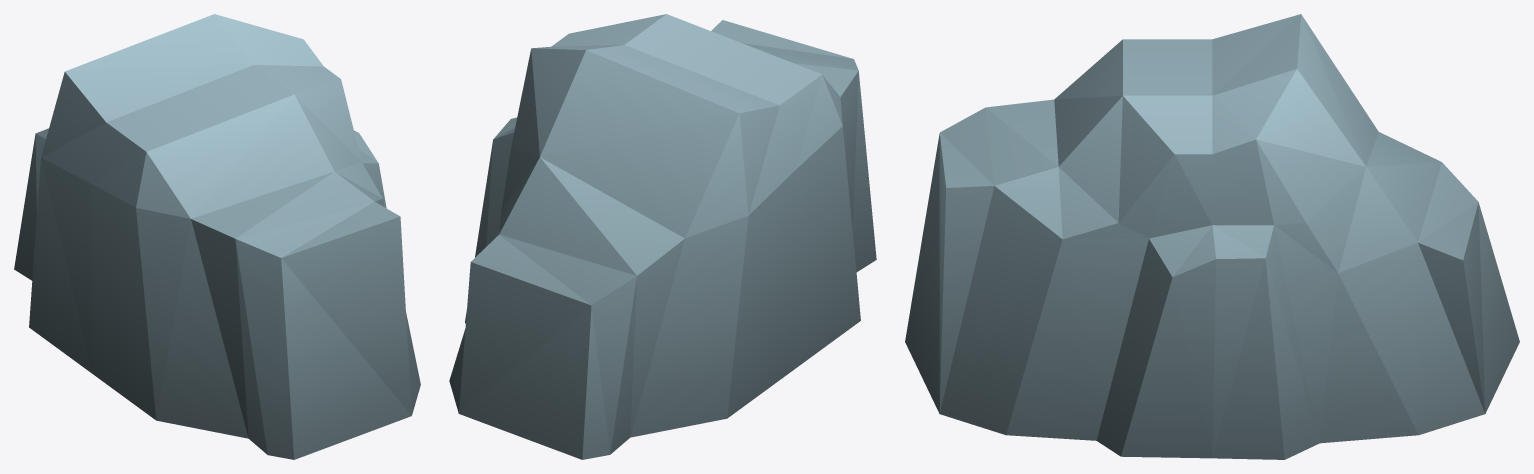
The model's file is stone small gray blue 4.fbx.
3 renders of one model, left to right at view 1: azimuth 30°, elevation 25°; view 2: azimuth 150°, elevation 25°; view 3: azimuth 270°, elevation 25°, orthographic. The views are drawn at different scales.
Visible parts, largest first — view 1: stone small gray blue 4; view 2: stone small gray blue 4; view 3: stone small gray blue 4.
Boxes of the visible parts, x1=… form: stone small gray blue 4: x1=14, y1=14, x2=420, y2=459; stone small gray blue 4: x1=449, y1=14, x2=876, y2=459; stone small gray blue 4: x1=905, y1=14, x2=1519, y2=459.
Bounding box in the file's own units: 74.36 × 73.05 × 125.
